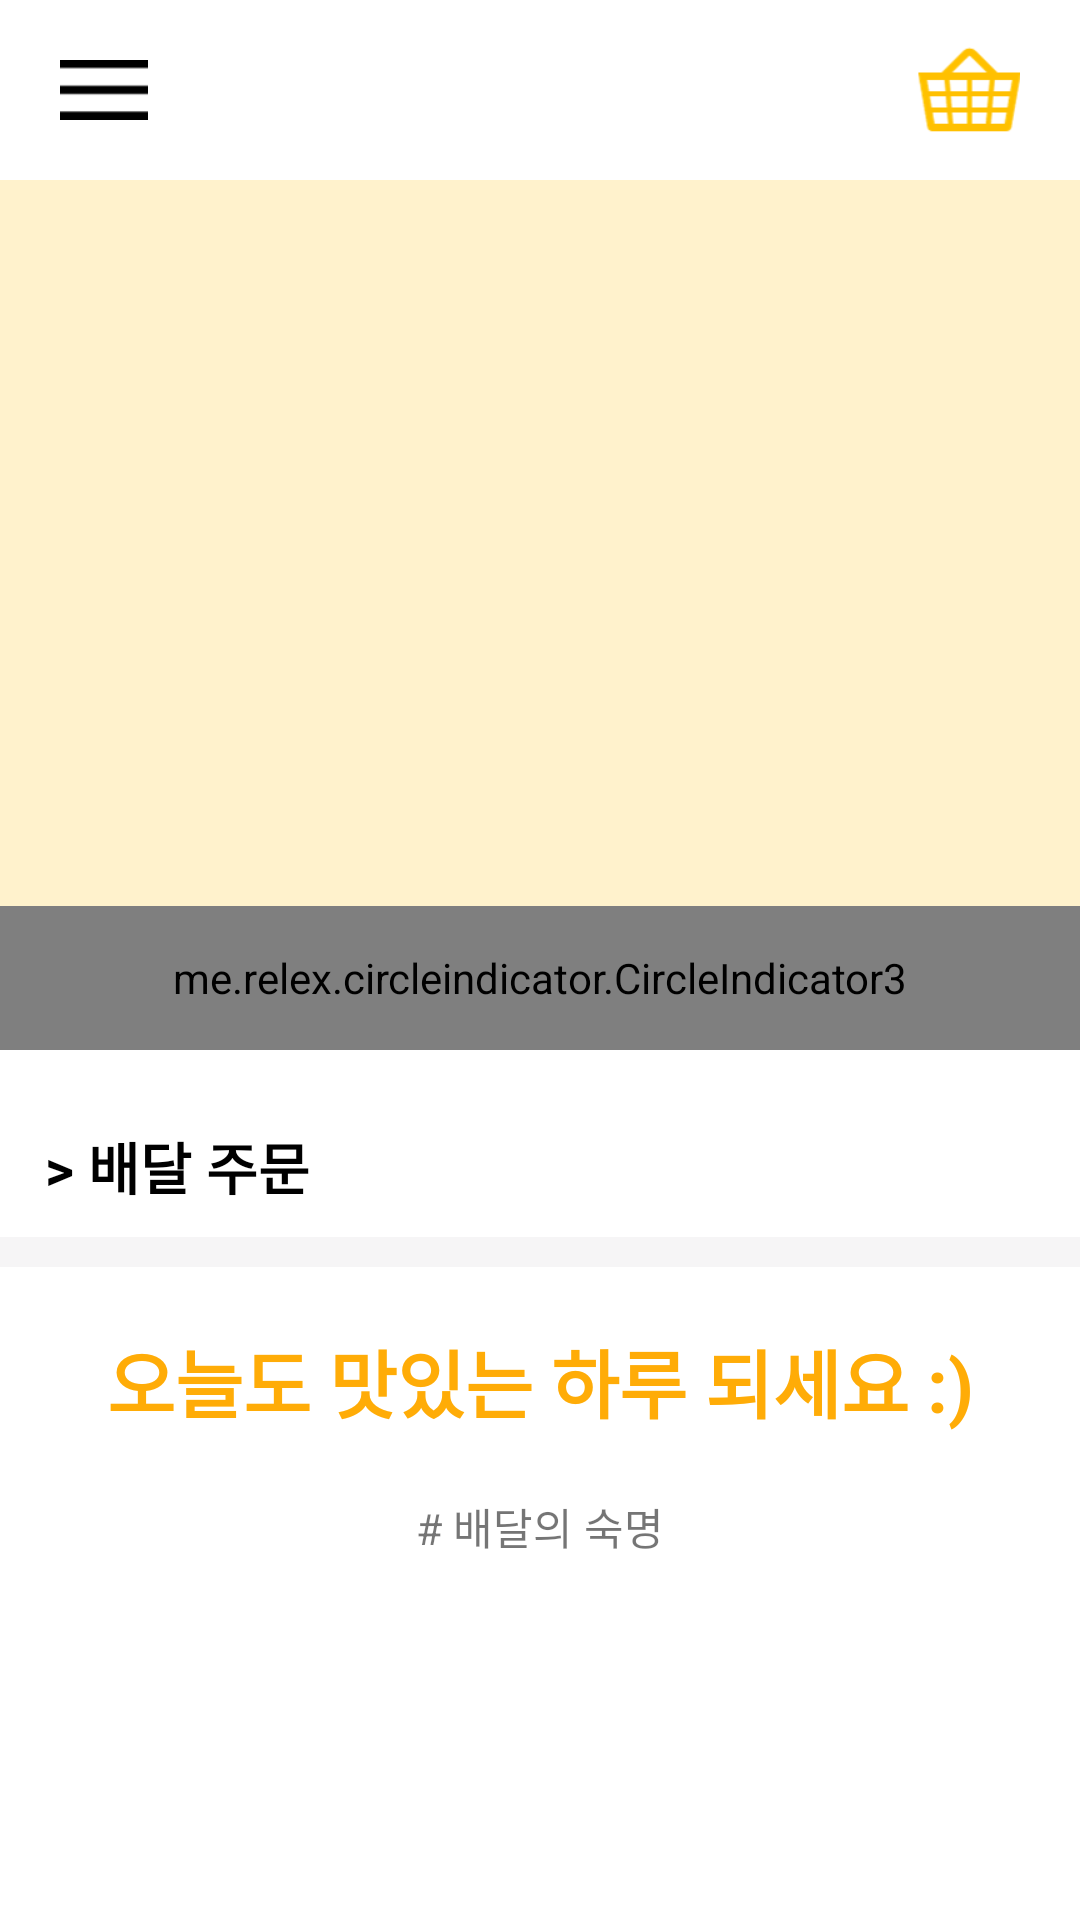

Icon click points for this 1080 × 1920 phone screenshot, format [x,y]:
cart: [969,89]
